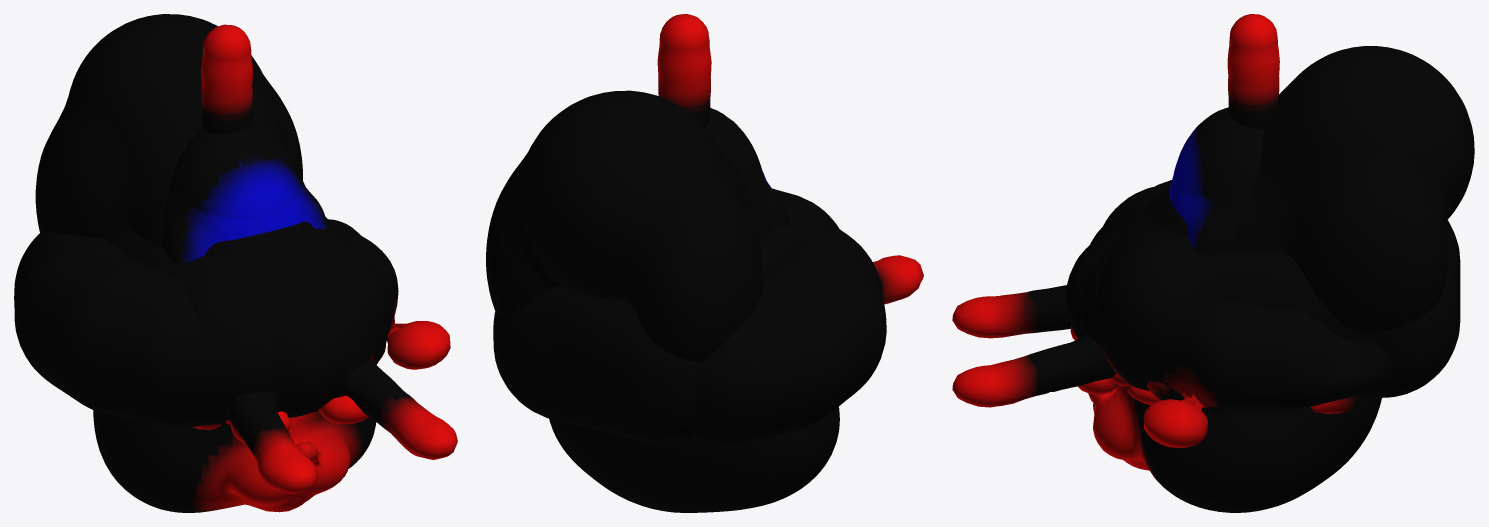
The model's file is cat-tuxedo.glb.
The picture shows the model from 3 angles, left to right: view 1: azimuth 30°, elevation 25°; view 2: azimuth 150°, elevation 25°; view 3: azimuth 270°, elevation 25°; orthographic projection. The views are drawn at different scales.
Parts seen in each view (by area): view 1: body_crouch, body_curl, head, body_loaf, body_sit, body_float, tail; view 2: body_crouch, body_curl, body_loaf, head, tail, body_sit, body_float; view 3: body_crouch, body_loaf, body_curl, head, body_sit, tail, body_float.
Boxes of the visible parts, <box> form: body_crouch: <box>35,14,457,494</box>; body_curl: <box>14,219,450,427</box>; head: <box>93,410,376,512</box>; body_loaf: <box>107,217,388,443</box>; body_sit: <box>170,123,301,429</box>; body_float: <box>162,175,385,424</box>; tail: <box>201,24,252,133</box>; body_crouch: <box>486,90,923,361</box>; body_curl: <box>691,222,886,445</box>; body_loaf: <box>493,188,839,444</box>; head: <box>549,406,839,512</box>; tail: <box>657,14,711,126</box>; body_sit: <box>705,108,762,180</box>; body_float: <box>744,170,789,227</box>; body_crouch: <box>952,46,1474,413</box>; body_loaf: <box>1070,184,1460,397</box>; body_curl: <box>1080,180,1393,448</box>; head: <box>1088,385,1381,512</box>; body_sit: <box>1127,107,1263,405</box>; tail: <box>1227,14,1279,129</box>; body_float: <box>1113,177,1252,412</box>.
Size of the model in its own units: 0.8702 by 1.07 by 1.07.
